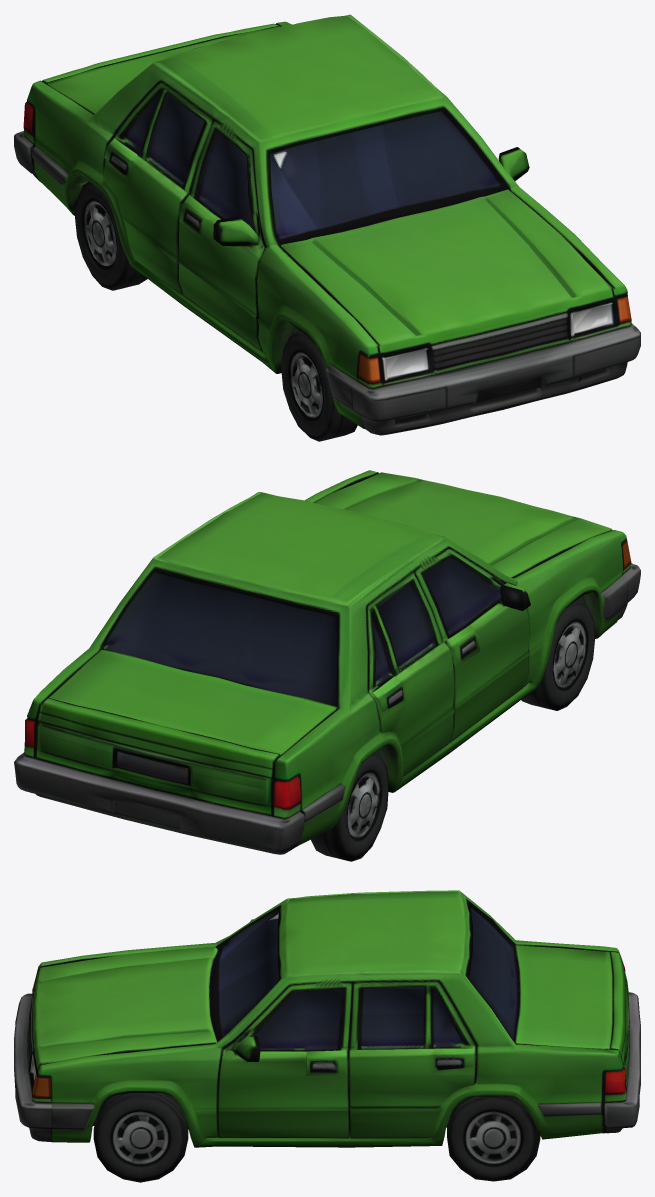
File: car.glb
The picture shows the model from 3 angles, top to bottom: view 1: azimuth 30°, elevation 25°; view 2: azimuth 150°, elevation 25°; view 3: azimuth 270°, elevation 25°; orthographic projection. The views are drawn at different scales.
Parts seen in each view (by area): view 1: tripo_node_96334f9c-6185-45ac-b9da-88b31a0bdbd7; view 2: tripo_node_96334f9c-6185-45ac-b9da-88b31a0bdbd7; view 3: tripo_node_96334f9c-6185-45ac-b9da-88b31a0bdbd7.
Boxes of the visible parts, <box> form: tripo_node_96334f9c-6185-45ac-b9da-88b31a0bdbd7: <box>14,14,640,441</box>; tripo_node_96334f9c-6185-45ac-b9da-88b31a0bdbd7: <box>14,470,640,861</box>; tripo_node_96334f9c-6185-45ac-b9da-88b31a0bdbd7: <box>14,890,640,1182</box>.
Size of the model in its own units: 0.4863 by 0.3535 by 0.998.
1 material, 1 textured.
